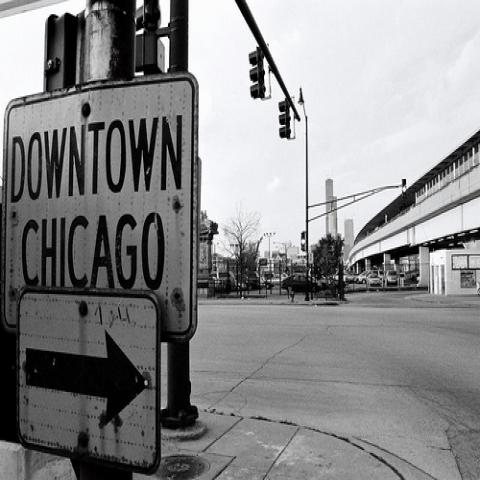car: (282, 274, 322, 293), (240, 270, 274, 291), (210, 270, 236, 292), (271, 272, 289, 284), (386, 269, 397, 286), (399, 271, 416, 282), (367, 274, 380, 287), (356, 270, 368, 284), (346, 272, 360, 283)
